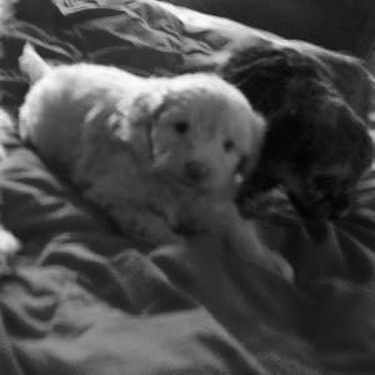dog: (10, 34, 304, 290), (218, 31, 375, 249)
